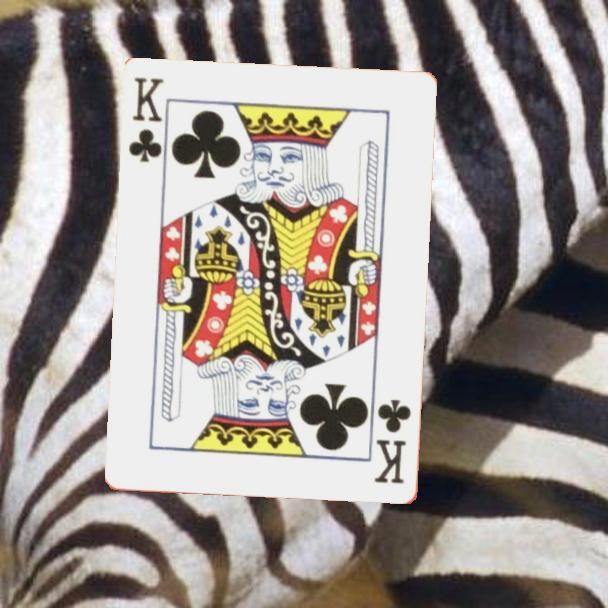c13: (371, 396, 415, 487), (126, 74, 167, 166)
